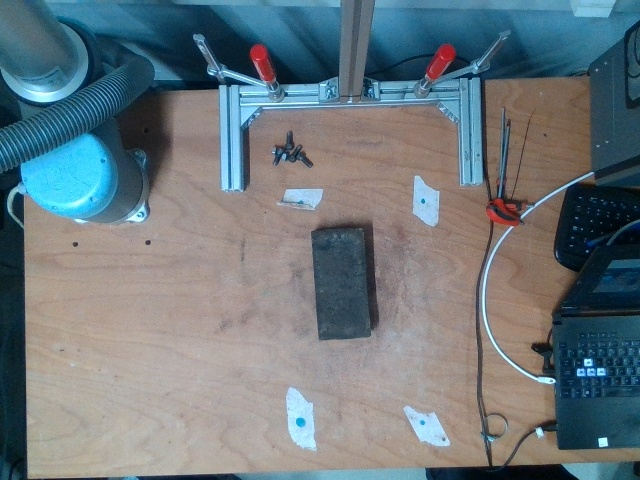brick: (312, 227, 370, 340)
